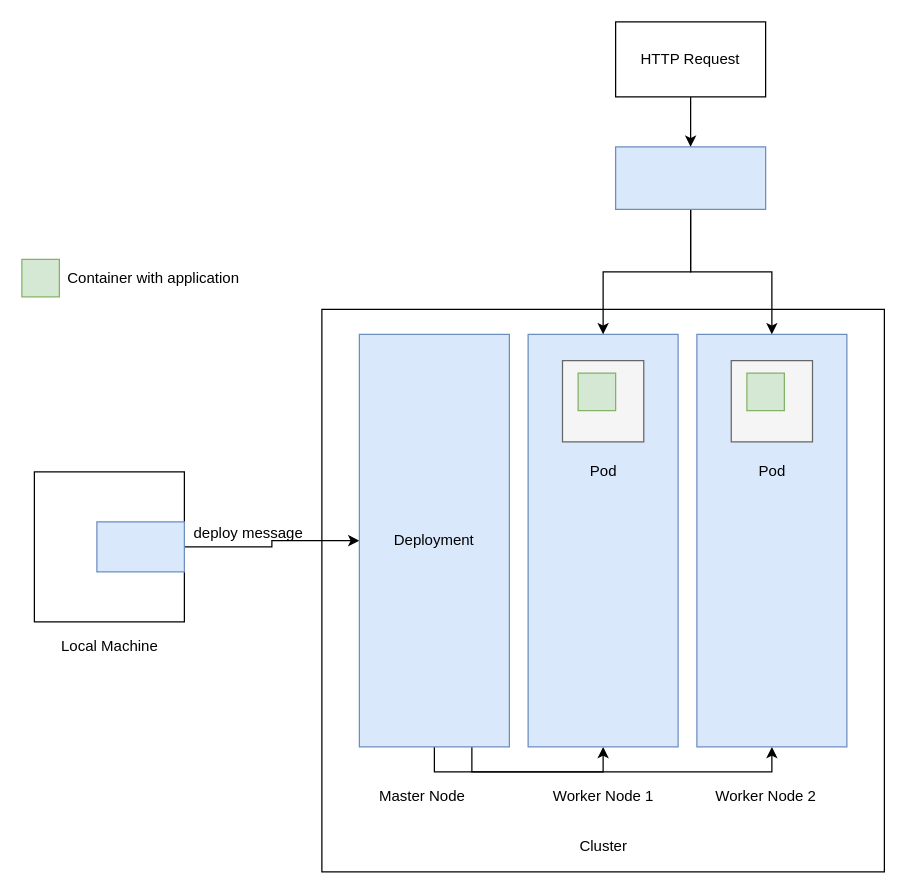
Image size: 906x894. Some labels were removed from this diagram. Here are the shapes that lost their labels. From the top down, the centre of each, then its label:
At point (690, 177): "Service".
At point (140, 546): "kubectl".
